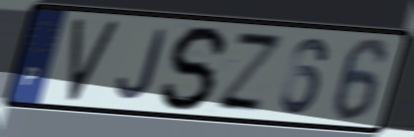6: (331, 35, 390, 125), (279, 35, 329, 117)
J: (115, 26, 170, 102)
S: (157, 23, 232, 113)
V: (65, 17, 123, 104)
Z: (212, 29, 287, 116)
